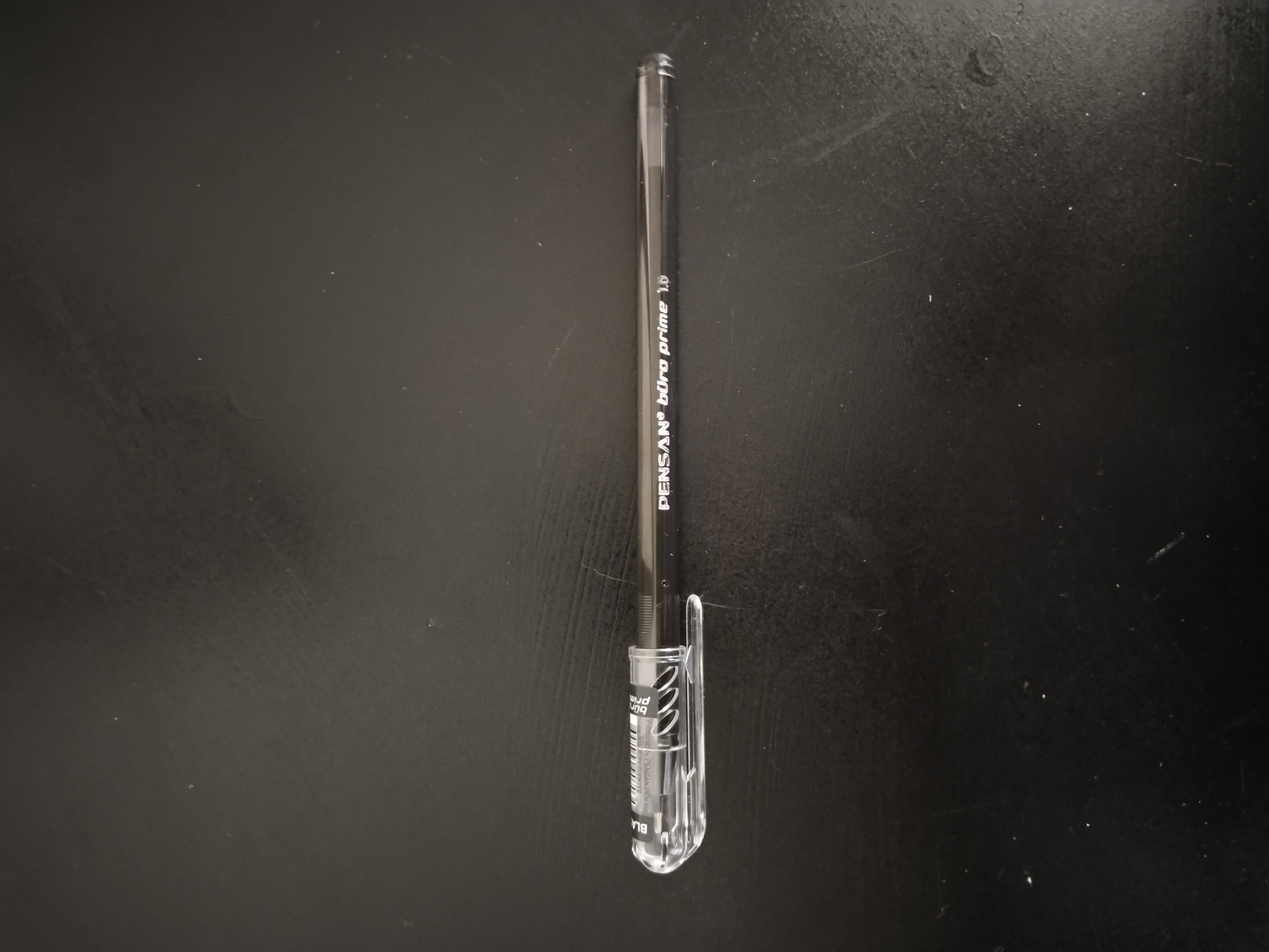pensan_siyah_tukenmez_kalem: (629, 59, 700, 887)
